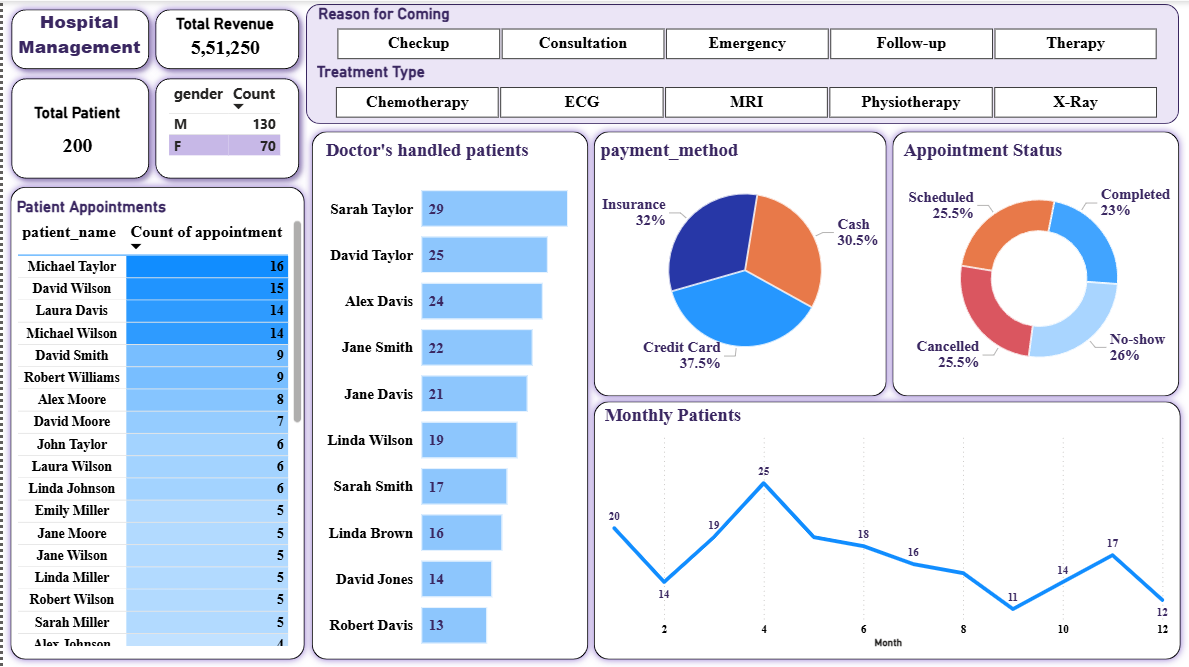

Layout of this report page (visuals, bound fields, positions):
{"tool":"powerbi","page":{"name":"Dashboard","canvas":[1280,720],"ordinal":0},"visuals":[{"type":"shape","box":[0,74.5,166.8,126.3],"z":0},{"type":"shape","box":[155.4,0,173.3,82.6],"z":1000},{"type":"shape","box":[0,0,166.8,82.6],"z":2000},{"type":"shape","box":[629.9,132.8,331.9,302],"z":3000},{"type":"shape","box":[327.1,3.2,942.4,129.5],"z":4000},{"type":"shape","box":[0,192.7,333.6,526.2],"z":5000},{"type":"shape","box":[155.4,74.5,173.3,126.3],"z":6000},{"type":"shape","box":[325.5,132.8,314.1,586.2],"z":7000},{"type":"shape","box":[952.1,132.8,325.5,302],"z":8000},{"type":"shape","box":[629.9,424.2,649.3,294.7],"z":9000},{"type":"lineChart","title":"Monthly Patients","fields":{"Category":["public appointment.month"],"Y":["CountNonNull(public appointment.patient_id)"]},"box":[644.5,435.6,621.8,267.2],"z":10000},{"type":"barChart","title":"Doctor''s handled patients","fields":{"Y":["CountNonNull(public appointment.appointment_id)"],"Category":["public doctor.Doctor_name"]},"box":[343.3,149,293.1,570],"z":11000},{"type":"donutChart","title":"Appointment Status","fields":{"Category":["public appointment.status"],"Y":["CountNonNull(public appointment.appointment_id)"]},"box":[966.7,149,302.8,278.5],"z":12000},{"type":"card","title":"Total Patient","fields":{"Values":["CountNonNull(public appointment.patient_id)"]},"box":[9.7,110.1,140.9,72.9],"z":13000},{"type":"card","title":"Total Revenue","fields":{"Values":["Sum(public billing.amount)"]},"box":[166.8,14.6,145.7,51.8],"z":14000},{"type":"tableEx","title":"Patient Appointments","fields":{"Values":["public patient.patient_name","public appointment.appointment_id"]},"box":[9.7,212.1,317.4,489],"z":15000},{"type":"slicer","title":"Treatment Type","fields":{"Values":["public treatment.tretment_type"]},"box":[333.6,66.4,935.9,66.4],"z":16000},{"type":"textbox","box":[9.7,3.2,145.7,71.2],"z":17000},{"type":"tableEx","title":"Gender","fields":{"Values":["public patient.gender","CountNonNull(public appointment.appointment_id)"]},"box":[173.3,82.6,140.9,110.1],"z":18000},{"type":"slicer","title":"Reason for Coming","fields":{"Values":["public appointment.reason_for_visit"]},"box":[335.2,3.2,934.3,66.4],"z":19000},{"type":"pieChart","title":"payment_method","fields":{"Category":["public billing.payment_method"],"Y":["CountNonNull(public billing.bill_id)"]},"box":[639.6,149,322.2,260.7],"z":20000}]}

Visuals, with their boxes in screenshot pixels (x1, y1, x2, y2), scaled from the page's 1280x720 canvas onto the 1189x667 screenshot:
shape: detection(0, 69, 155, 186)
shape: detection(144, 0, 305, 77)
shape: detection(0, 0, 155, 77)
shape: detection(585, 123, 893, 403)
shape: detection(304, 3, 1179, 123)
shape: detection(0, 179, 310, 666)
shape: detection(144, 69, 305, 186)
shape: detection(302, 123, 594, 666)
shape: detection(884, 123, 1187, 403)
shape: detection(585, 393, 1188, 666)
"Monthly Patients" lineChart: detection(599, 404, 1176, 651)
"Doctor''s handled patients" barChart: detection(319, 138, 591, 666)
"Appointment Status" donutChart: detection(898, 138, 1179, 396)
"Total Patient" card: detection(9, 102, 140, 170)
"Total Revenue" card: detection(155, 14, 290, 62)
"Patient Appointments" tableEx: detection(9, 196, 304, 649)
"Treatment Type" slicer: detection(310, 62, 1179, 123)
textbox: detection(9, 3, 144, 69)
"Gender" tableEx: detection(161, 77, 292, 179)
"Reason for Coming" slicer: detection(311, 3, 1179, 64)
"payment_method" pieChart: detection(594, 138, 893, 380)
